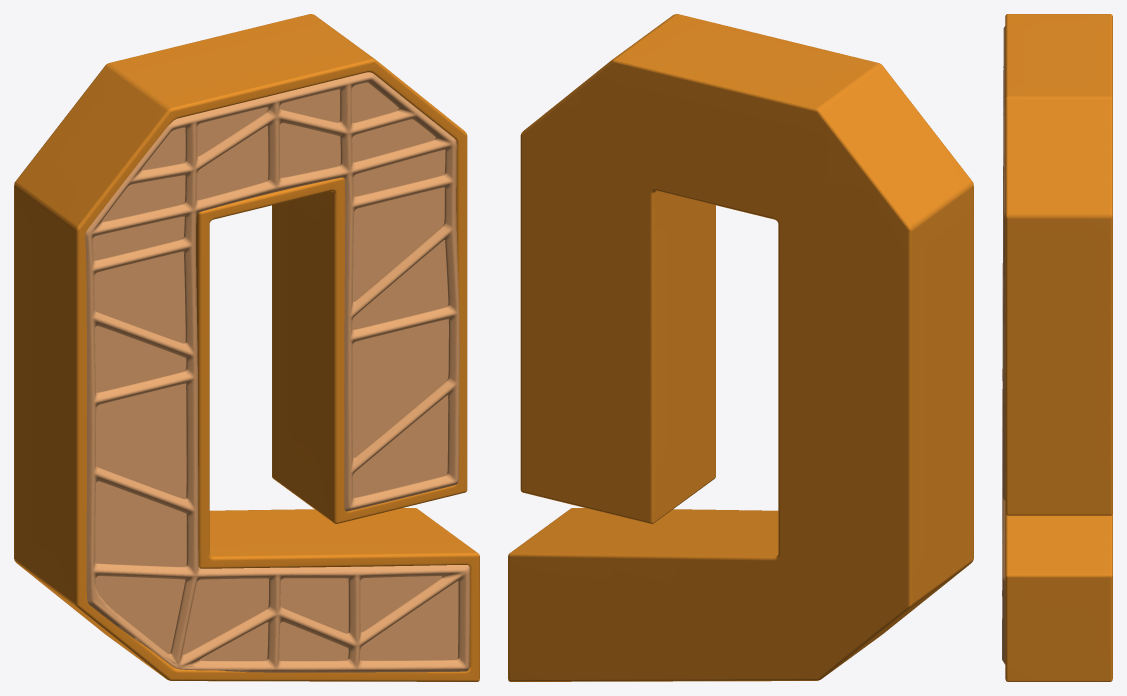
Rendered from Q_nuevo.glb.
The picture shows the model from 3 angles, left to right: view 1: azimuth 30°, elevation 25°; view 2: azimuth 150°, elevation 25°; view 3: azimuth 270°, elevation 25°; orthographic projection. The views are drawn at different scales.
Visible parts, largest first — view 1: Text.017, Plane.019, Plane.050; view 2: Text.017; view 3: Text.017, Plane.050.
Boxes of the visible parts, x1=… form: Text.017: x1=14, y1=14, x2=479, y2=681; Plane.019: x1=93, y1=82, x2=458, y2=660; Plane.050: x1=85, y1=72, x2=469, y2=672; Text.017: x1=508, y1=14, x2=973, y2=681; Text.017: x1=1005, y1=14, x2=1112, y2=681; Plane.050: x1=1002, y1=26, x2=1005, y2=664.
Size of the model in its own units: 2.94 by 4.51 by 0.8341.
